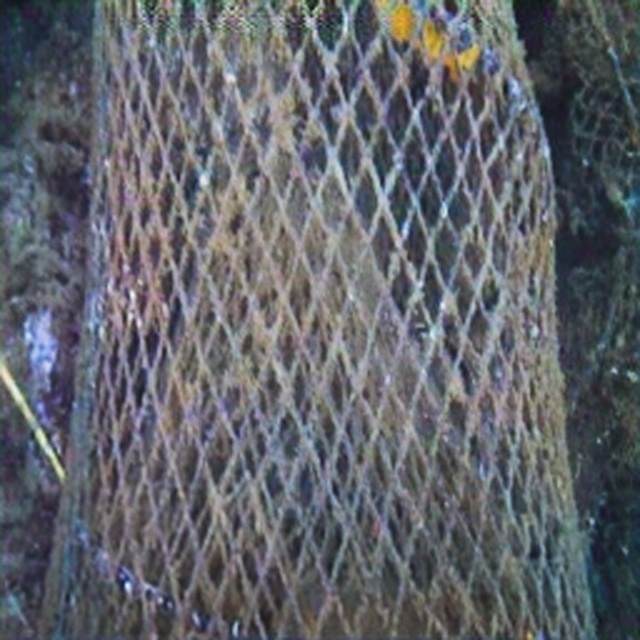mine: (34, 0, 598, 640)
